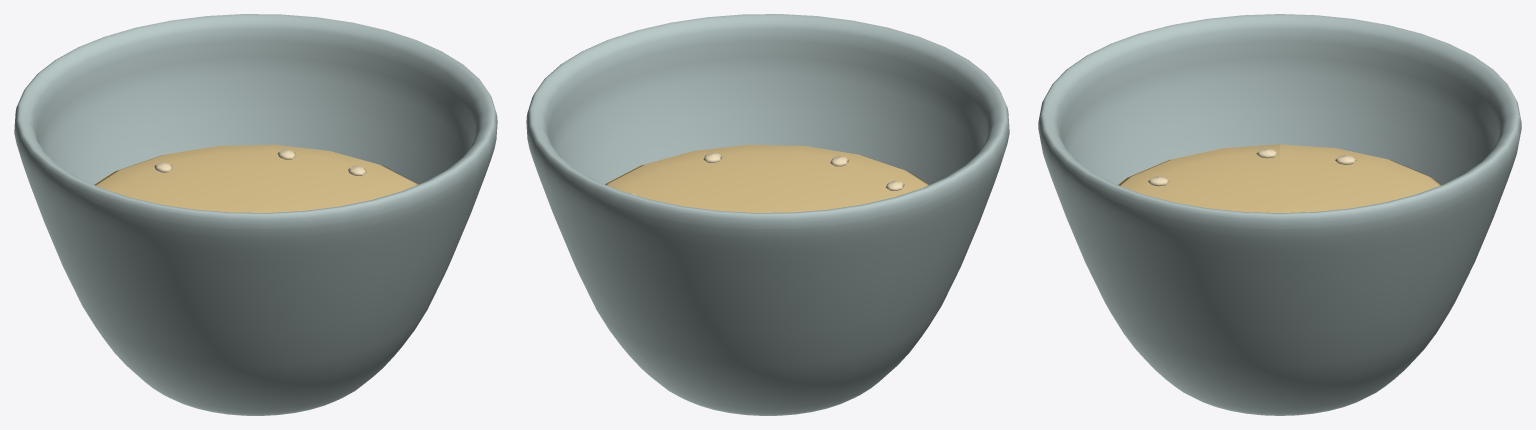
File: mixer-bowl.glb
The picture shows the model from 3 angles, left to right: view 1: azimuth 30°, elevation 25°; view 2: azimuth 150°, elevation 25°; view 3: azimuth 270°, elevation 25°; orthographic projection.
Visible parts, largest first — view 1: steel, batter, cream; view 2: steel, batter, cream; view 3: steel, batter, cream.
Part boxes in pixels (box(x1,y1,x2,y2)): steel: box(14, 14, 497, 415); batter: box(94, 144, 418, 212); cream: box(154, 149, 366, 176); steel: box(526, 14, 1009, 415); batter: box(605, 144, 929, 212); cream: box(628, 152, 904, 195); steel: box(1038, 14, 1521, 415); batter: box(1118, 144, 1441, 212); cream: box(1148, 148, 1356, 186).
Size of the model in its own units: 2.36 by 1.42 by 2.36.
